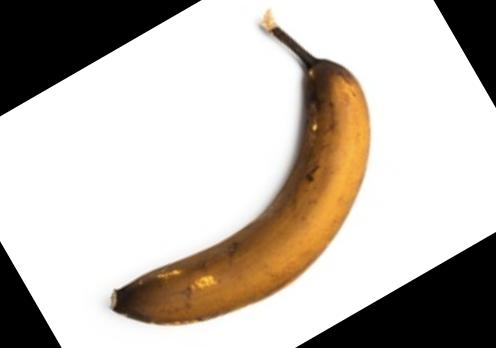Banana Overripe: (109, 5, 391, 345)
